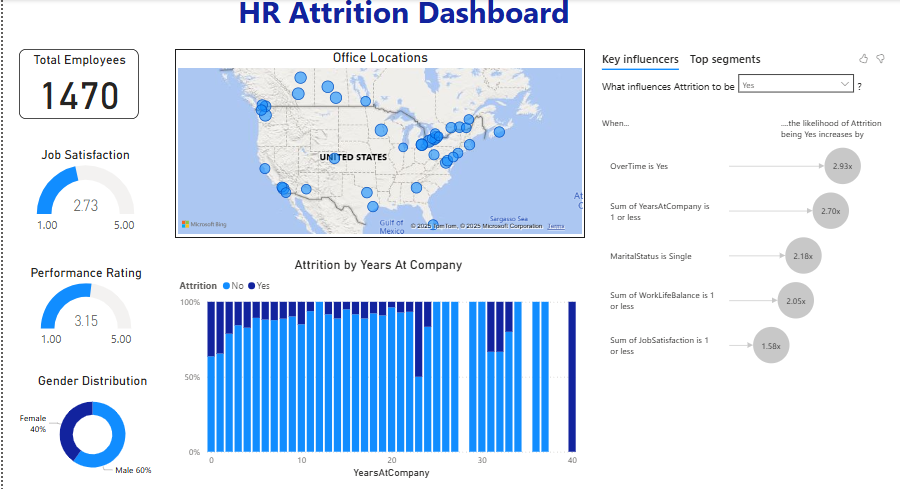

Layout of this report page (visuals, bound fields, positions):
{"tool":"powerbi","page":{"name":"Page 1","canvas":[1288,732],"ordinal":0},"visuals":[{"type":"card","title":"Total Employees","fields":{"Values":["CountNonNull(HRIS.EmployeeNumber)"]},"box":[22.9,88.6,171.4,100],"z":0},{"type":"donutChart","title":"Gender Distribution","fields":{"Category":["HRIS.Gender"],"Y":["CountNonNull(HRIS.EmployeeNumber)"]},"box":[16.7,551.7,221.7,155],"z":1000},{"type":"gauge","title":"Job Satisfaction","fields":{"Y":["Avg(Engagement Survey.JobSatisfaction)"]},"box":[16.7,228.3,201.7,131.7],"z":2000},{"type":"gauge","title":"Performance Rating","fields":{"Y":["Avg(HRIS.PerformanceRating)"]},"box":[13.3,396.7,211.7,126.7],"z":3000},{"type":"map","title":"Office Locations","fields":{"Category":["Sheet1.City"],"Y":["Avg(Sheet1.Lattitude)"],"X":["Avg(Sheet1.Longitude)"],"Size":["CountNonNull(HRIS.EmployeeNumber)"]},"box":[245,88.3,586.7,270],"z":5000},{"type":"hundredPercentStackedColumnChart","title":"Attrition by Years At Company","fields":{"Category":["HRIS.YearsAtCompany"],"Y":["CountNonNull(HRIS.EmployeeNumber)"],"Series":["HRIS.Attrition"]},"box":[246.7,385,578.3,321.7],"z":6000},{"type":"keyDriversVisual","fields":{"Target":["HRIS.Attrition"],"ExplainBy":["Sum(HRIS.YearsAtCompany)","HRIS.StockOptionLevel","HRIS.PerformanceRating","HRIS.OverTime","HRIS.MaritalStatus","Sum(Engagement Survey.JobSatisfaction)","Sum(Engagement Survey.WorkLifeBalance)"]},"box":[838.6,78.6,440,618.6],"z":7000},{"type":"textbox","box":[285,0,573.3,68.3],"z":8000}]}

Visuals, with their boxes on the page's 1288x732 design canvas (x1, y1, x2, y2). These are canvas units, not pixel positions in the 900x489 screenshot, which may show the page scaled, cropped or inside an application window:
"Total Employees" card: left=23, top=89, right=194, bottom=189
"Gender Distribution" donutChart: left=17, top=552, right=238, bottom=707
"Job Satisfaction" gauge: left=17, top=228, right=218, bottom=360
"Performance Rating" gauge: left=13, top=397, right=225, bottom=523
"Office Locations" map: left=245, top=88, right=832, bottom=358
"Attrition by Years At Company" hundredPercentStackedColumnChart: left=247, top=385, right=825, bottom=707
keyDriversVisual - HRIS.Attrition x Sum(HRIS.YearsAtCompany): left=839, top=79, right=1279, bottom=697
textbox: left=285, top=0, right=858, bottom=68
